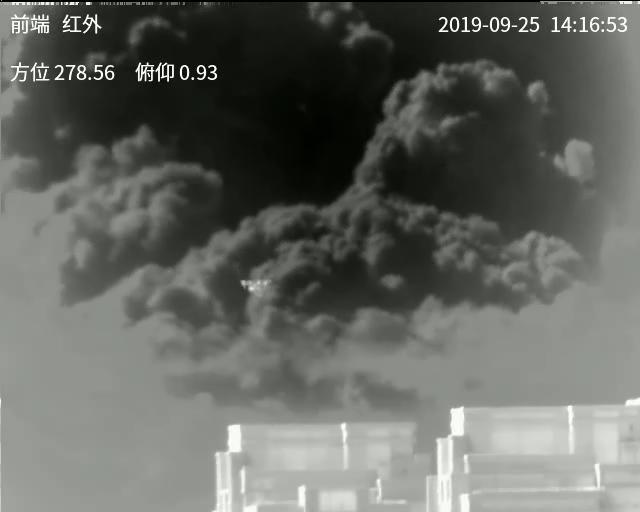uav: (239, 276, 272, 300)
